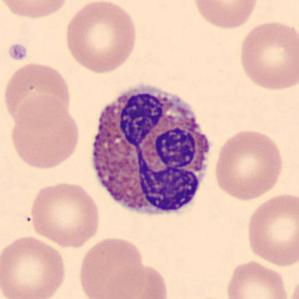Eosinophil: (82, 73, 220, 228)
Platelets: (6, 42, 30, 63)
RBC: (62, 0, 140, 76), (8, 95, 82, 172), (212, 126, 286, 202), (26, 179, 102, 248), (1, 60, 74, 129), (0, 233, 69, 299), (76, 234, 146, 299), (236, 19, 298, 92), (244, 191, 298, 268), (222, 258, 290, 299), (100, 261, 171, 299), (190, 0, 260, 30), (0, 0, 71, 20), (286, 274, 299, 299)
